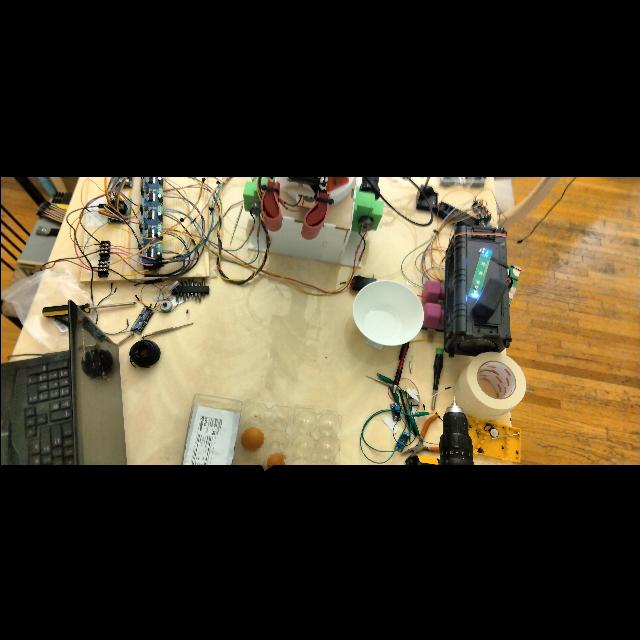Egg: (238, 421, 266, 457), (258, 447, 286, 467)
